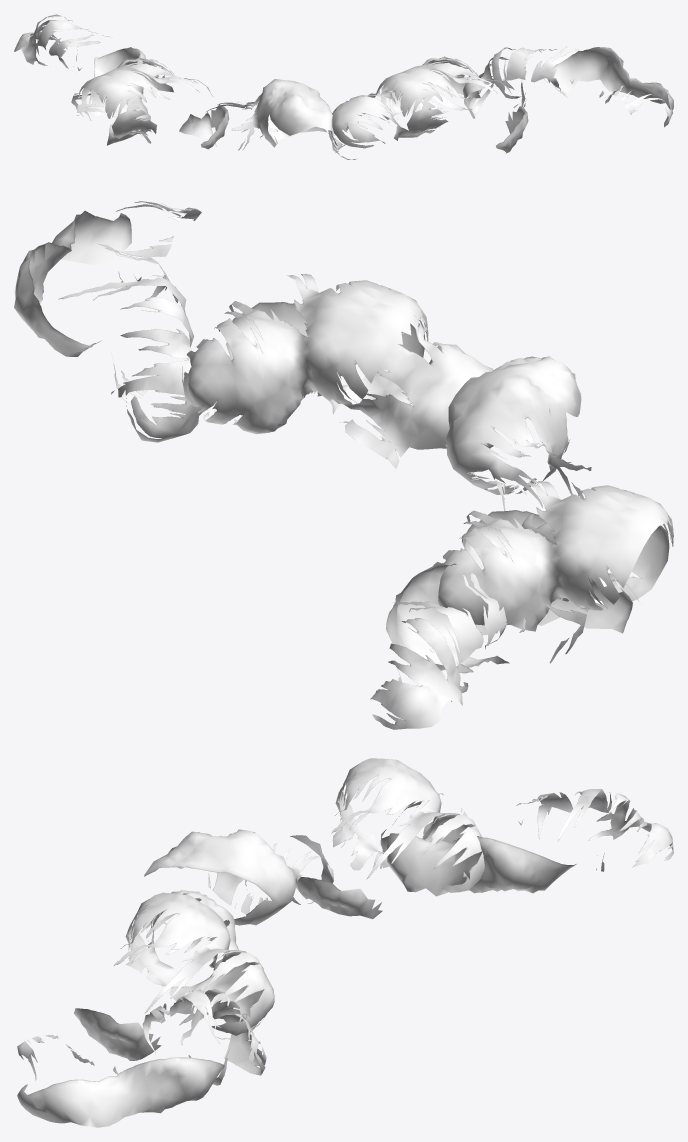
File: SM_ENV_KNFRST_DistanceLeaf_GroupD.FBX
The picture shows the model from 3 angles, top to bottom: view 1: azimuth 30°, elevation 25°; view 2: azimuth 150°, elevation 25°; view 3: azimuth 270°, elevation 25°; orthographic projection. The views are drawn at different scales.
Parts seen in each view (by area): view 1: SM_ENV_KNFRST_DistanceLeaf_GroupD; view 2: SM_ENV_KNFRST_DistanceLeaf_GroupD; view 3: SM_ENV_KNFRST_DistanceLeaf_GroupD.
Part boxes in pixels (x1,y1,x2,y2): SM_ENV_KNFRST_DistanceLeaf_GroupD: [14, 14, 673, 159]; SM_ENV_KNFRST_DistanceLeaf_GroupD: [14, 201, 673, 729]; SM_ENV_KNFRST_DistanceLeaf_GroupD: [17, 758, 673, 1127].
Size of the model in its own units: 6205 by 1127 by 5637.
